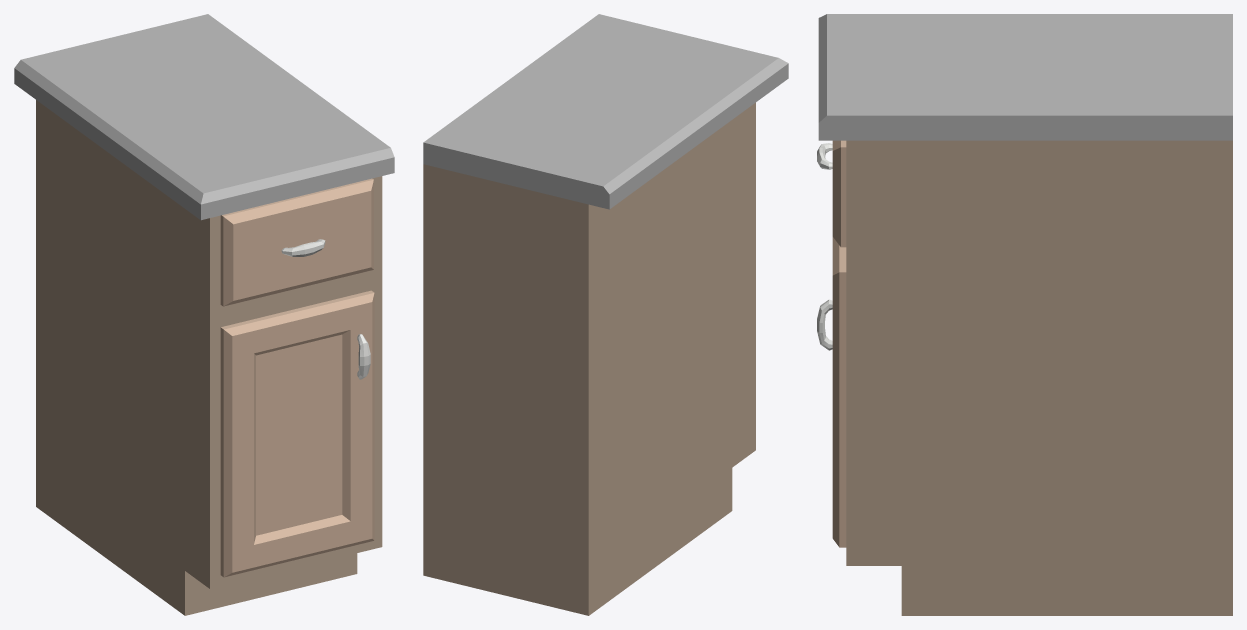
Rendered from Structure_Bathroom_Cabinet_End.glb.
3 views of the same model, side by side, from view 1: azimuth 30°, elevation 25°; view 2: azimuth 150°, elevation 25°; view 3: azimuth 270°, elevation 25° (orthographic). The views are drawn at different scales.
Parts seen in each view (by area): view 1: Structure_Bathroom_Cabinet_End; view 2: Structure_Bathroom_Cabinet_End; view 3: Structure_Bathroom_Cabinet_End.
Part boxes in pixels (x1,y1,x2,y2): Structure_Bathroom_Cabinet_End: [14, 14, 394, 615]; Structure_Bathroom_Cabinet_End: [423, 14, 788, 615]; Structure_Bathroom_Cabinet_End: [817, 14, 1232, 615].
Size of the model in its own units: 0.45 by 1 by 0.7531.
